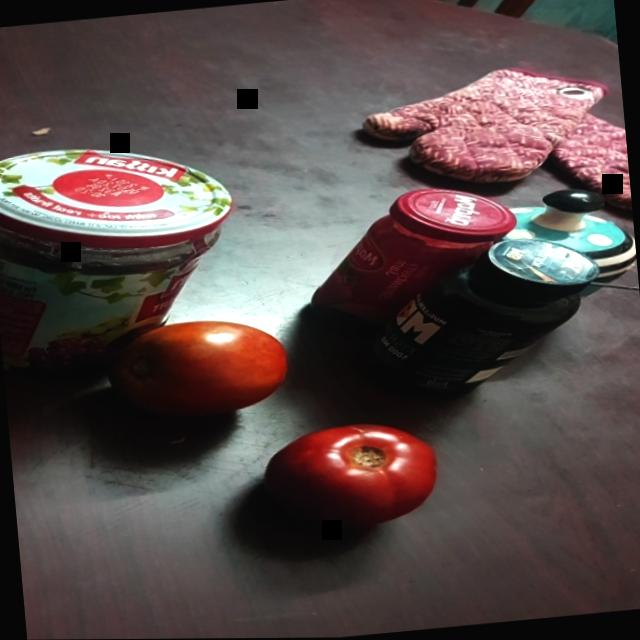tomato: (93, 302, 303, 430), (256, 412, 444, 537)
